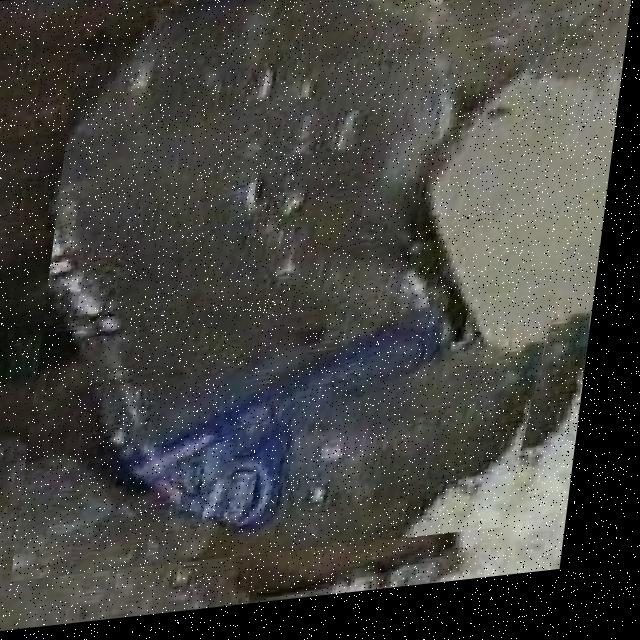plasticbottle: (26, 0, 640, 583)
